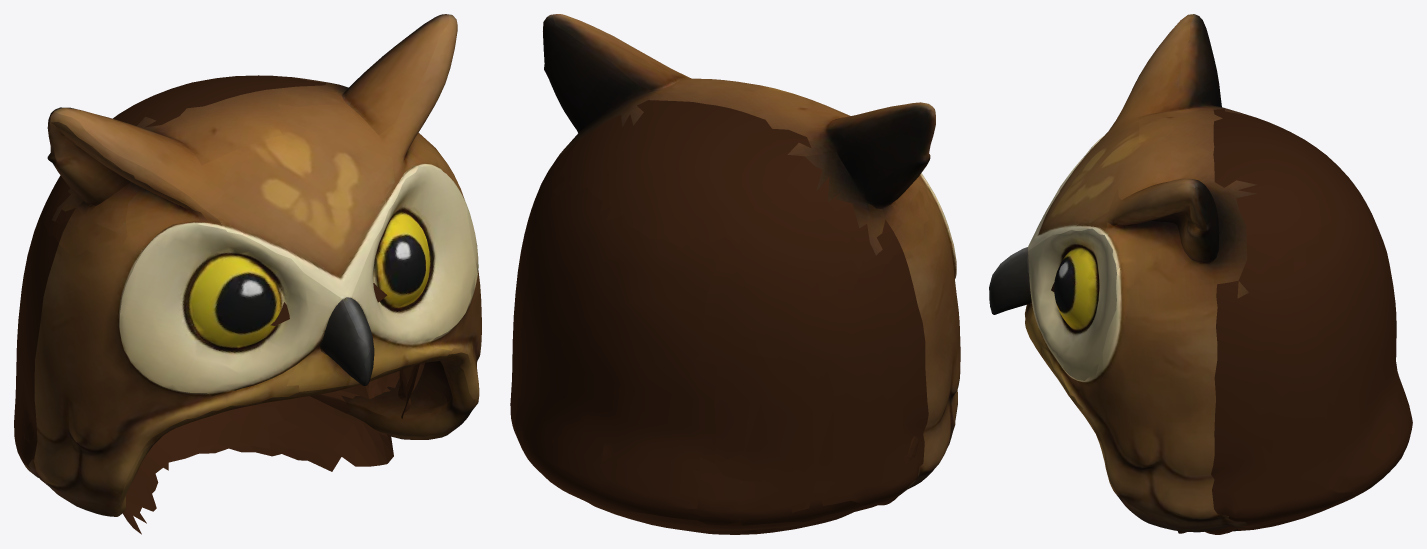
Rendered from owl.glb.
3 views of the same model, side by side, from view 1: azimuth 30°, elevation 25°; view 2: azimuth 150°, elevation 25°; view 3: azimuth 270°, elevation 25° (orthographic). The views are drawn at different scales.
Parts seen in each view (by area): view 1: geometry_0, HoodAnatomicalLining; view 2: geometry_0; view 3: geometry_0.
Boxes of the visible parts, <box> form: geometry_0: <box>14,14,481,516</box>; HoodAnatomicalLining: <box>24,283,424,534</box>; geometry_0: <box>510,14,960,534</box>; geometry_0: <box>989,14,1412,532</box>.
Size of the model in its own units: 0.5314 by 0.5325 by 0.5264.
Materials: 2 (1 with a texture image).
